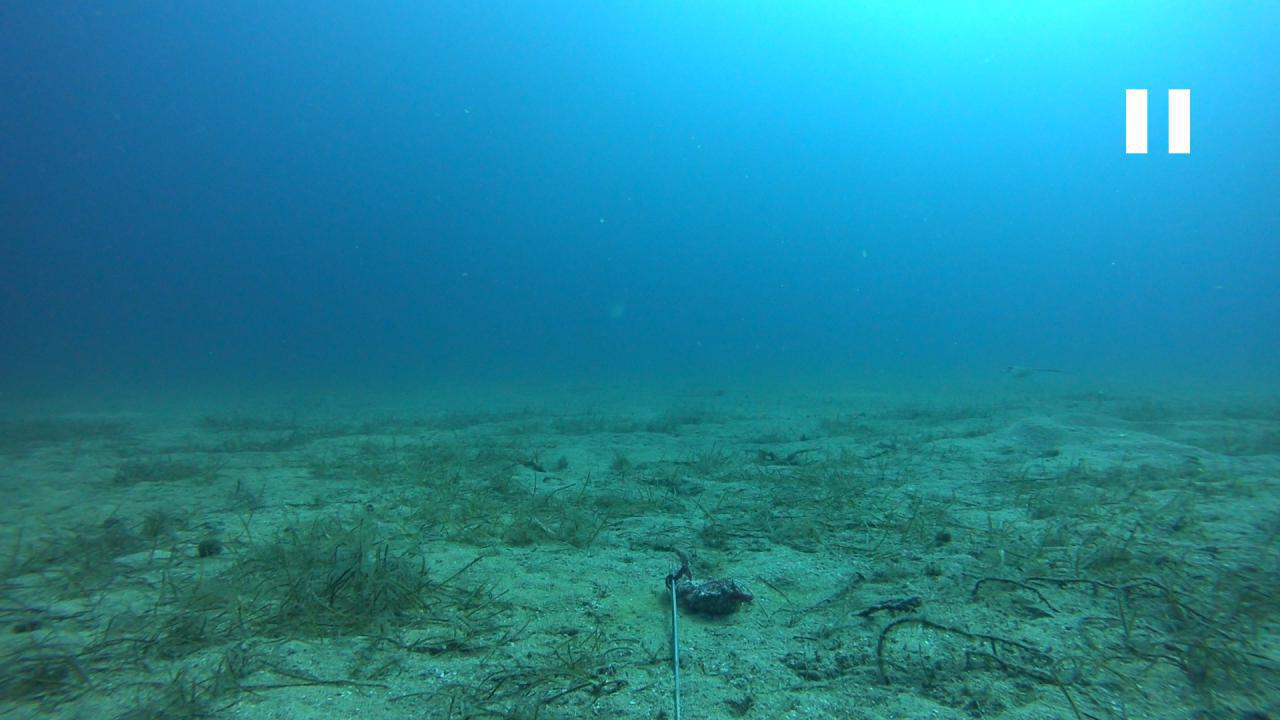dasyatis: (1002, 361, 1074, 379)
